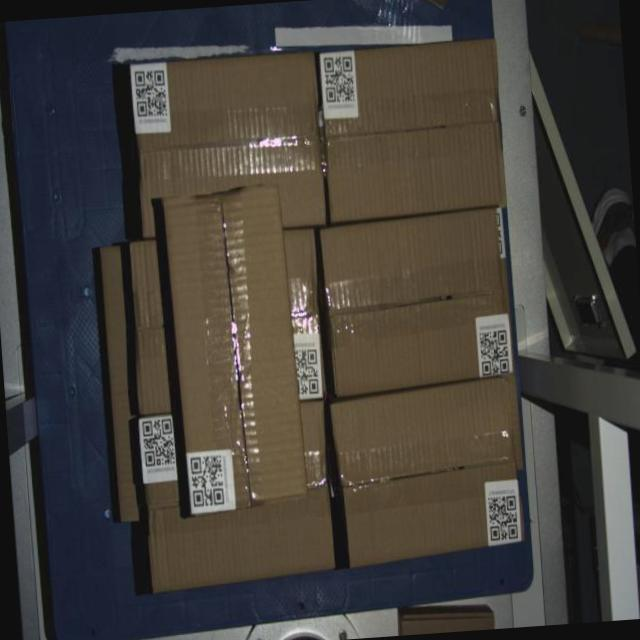box: (162, 182, 310, 518), (329, 376, 526, 568), (319, 208, 516, 397), (318, 38, 508, 221)
